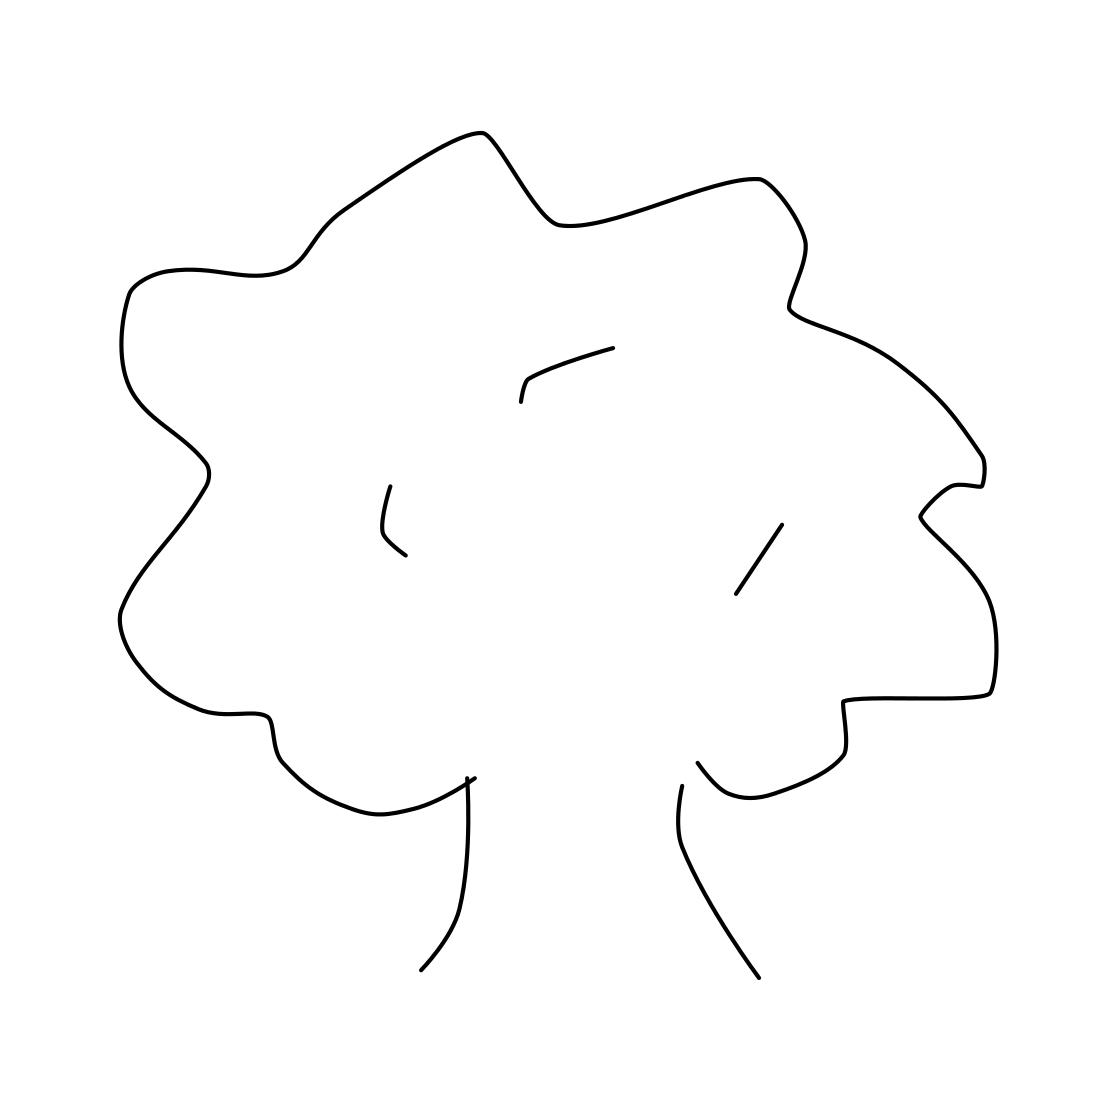Tree: (86, 111, 1006, 1000)
